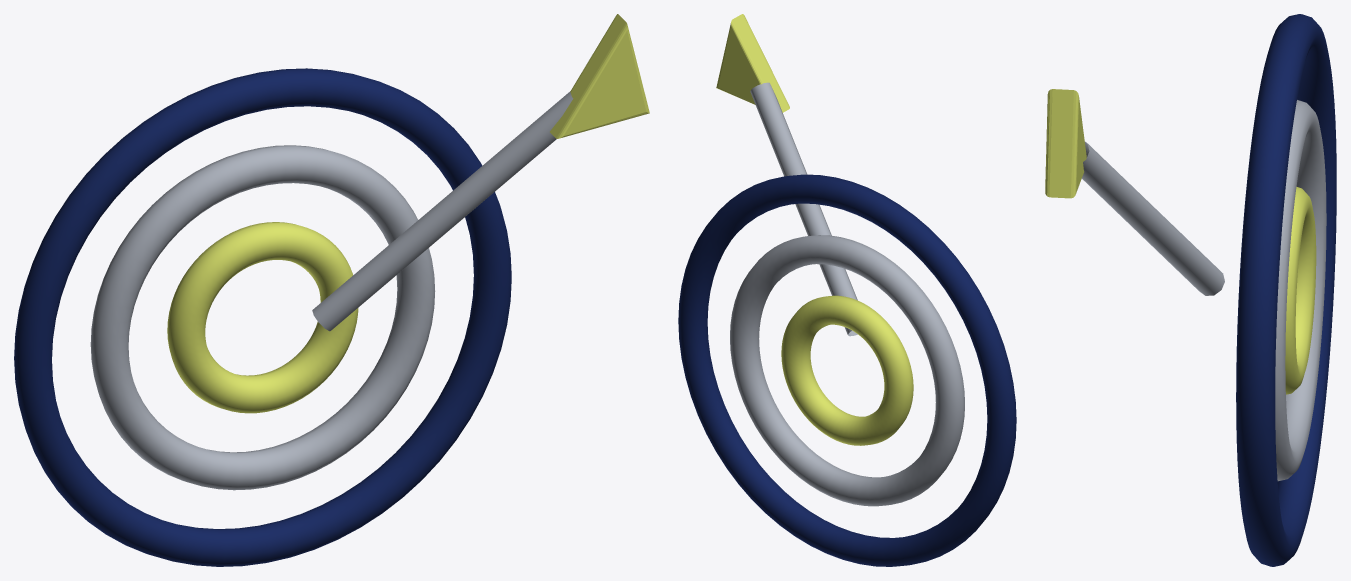
3 views of the same model, side by side, from view 1: azimuth 30°, elevation 25°; view 2: azimuth 150°, elevation 25°; view 3: azimuth 270°, elevation 25° (orthographic). The views are drawn at different scales.
Parts seen in each view (by area): view 1: rounded metal arc (×3), deliberate target arrow, arrowhead; view 2: rounded metal arc (×3), deliberate target arrow, arrowhead; view 3: rounded metal arc (×3), deliberate target arrow, arrowhead.
Part boxes in pixels (bbox=[...]): rounded metal arc (×3): bbox=[14, 68, 511, 566]; deliberate target arrow: bbox=[312, 91, 573, 331]; arrowhead: bbox=[550, 14, 649, 138]; rounded metal arc (×3): bbox=[678, 174, 1016, 566]; deliberate target arrow: bbox=[750, 82, 857, 336]; arrowhead: bbox=[716, 14, 789, 112]; rounded metal arc (×3): bbox=[1236, 14, 1336, 566]; deliberate target arrow: bbox=[1082, 141, 1224, 295]; arrowhead: bbox=[1045, 89, 1086, 198].
Bounding box in the file's own units: 1.68 × 1.78 × 0.8157.
